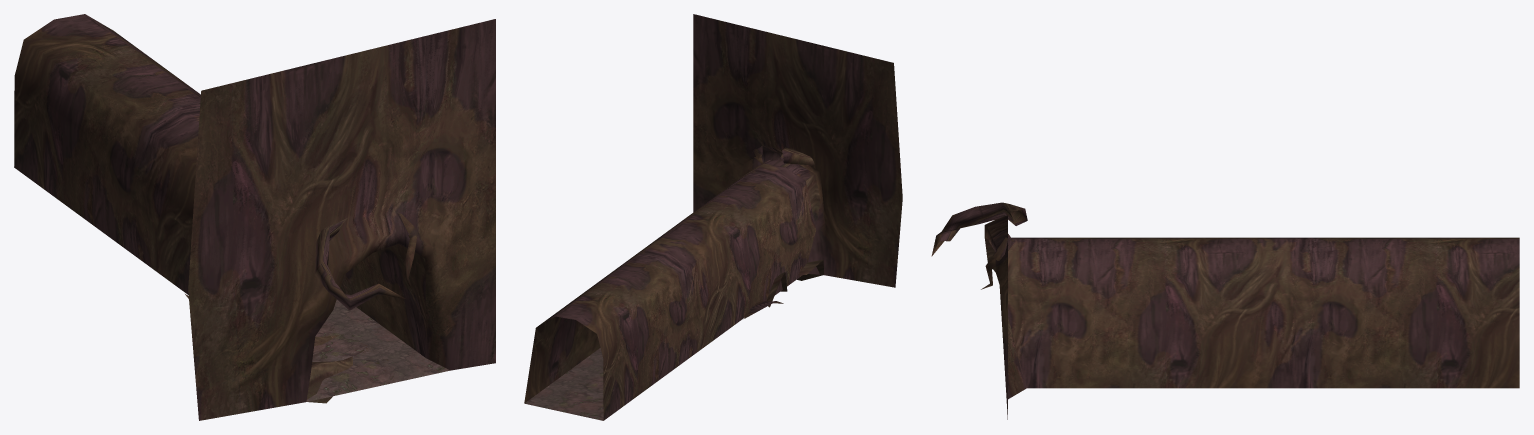
File: section04_guanka07_men.FBX
The picture shows the model from 3 angles, left to right: view 1: azimuth 30°, elevation 25°; view 2: azimuth 150°, elevation 25°; view 3: azimuth 270°, elevation 25°; orthographic projection. The views are drawn at different scales.
Parts seen in each view (by area): view 1: section04_guanka07_men; view 2: section04_guanka07_men; view 3: section04_guanka07_men.
Part boxes in pixels (x1,y1,x2,y2): section04_guanka07_men: (14,14,495,420); section04_guanka07_men: (524,14,902,420); section04_guanka07_men: (931,202,1519,419).
Bounding box in the file's own units: 16.42 × 32.61 × 17.77.
